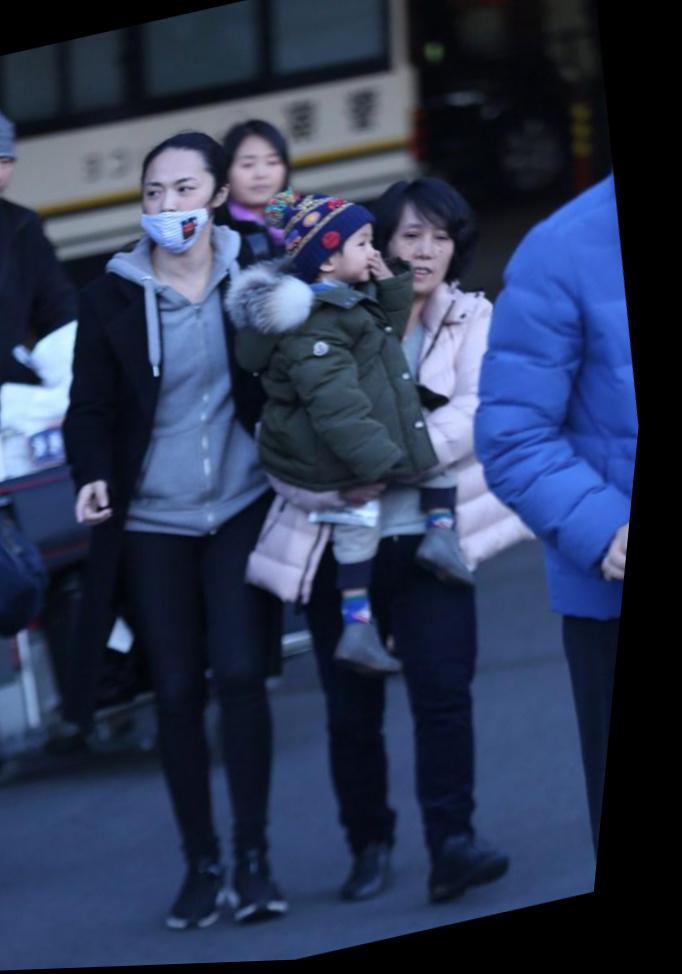NONE: (386, 219, 465, 303), (229, 147, 297, 210), (328, 227, 389, 292), (1, 149, 23, 218)
WRONG: (133, 165, 229, 257)
